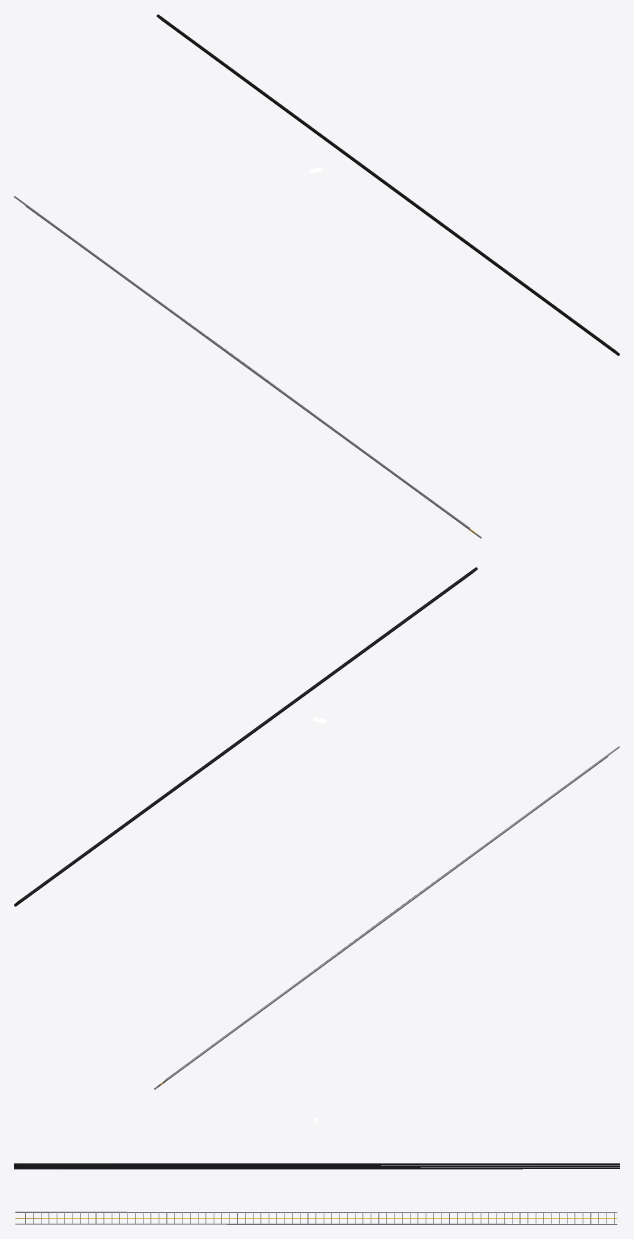
Rendered from ladder_1.glb.
3 renders of one model, top to bottom at view 1: azimuth 30°, elevation 25°; view 2: azimuth 150°, elevation 25°; view 3: azimuth 270°, elevation 25°, orthographic. The views are drawn at different scales.
Visible parts, largest first — view 1: ladder_1; view 2: ladder_1; view 3: ladder_1.
Part boxes in pixels (bbox=[...]): ladder_1: bbox=[14, 14, 619, 538]; ladder_1: bbox=[14, 567, 619, 1089]; ladder_1: bbox=[14, 1118, 619, 1224].
Size of the model in its own units: 4.12 by 4.93 by 21.61.
